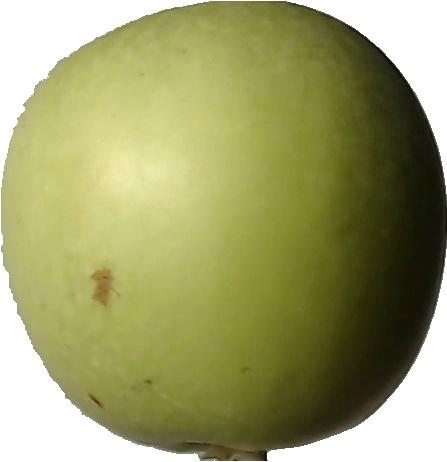Apple Unripe: (1, 1, 440, 462)
